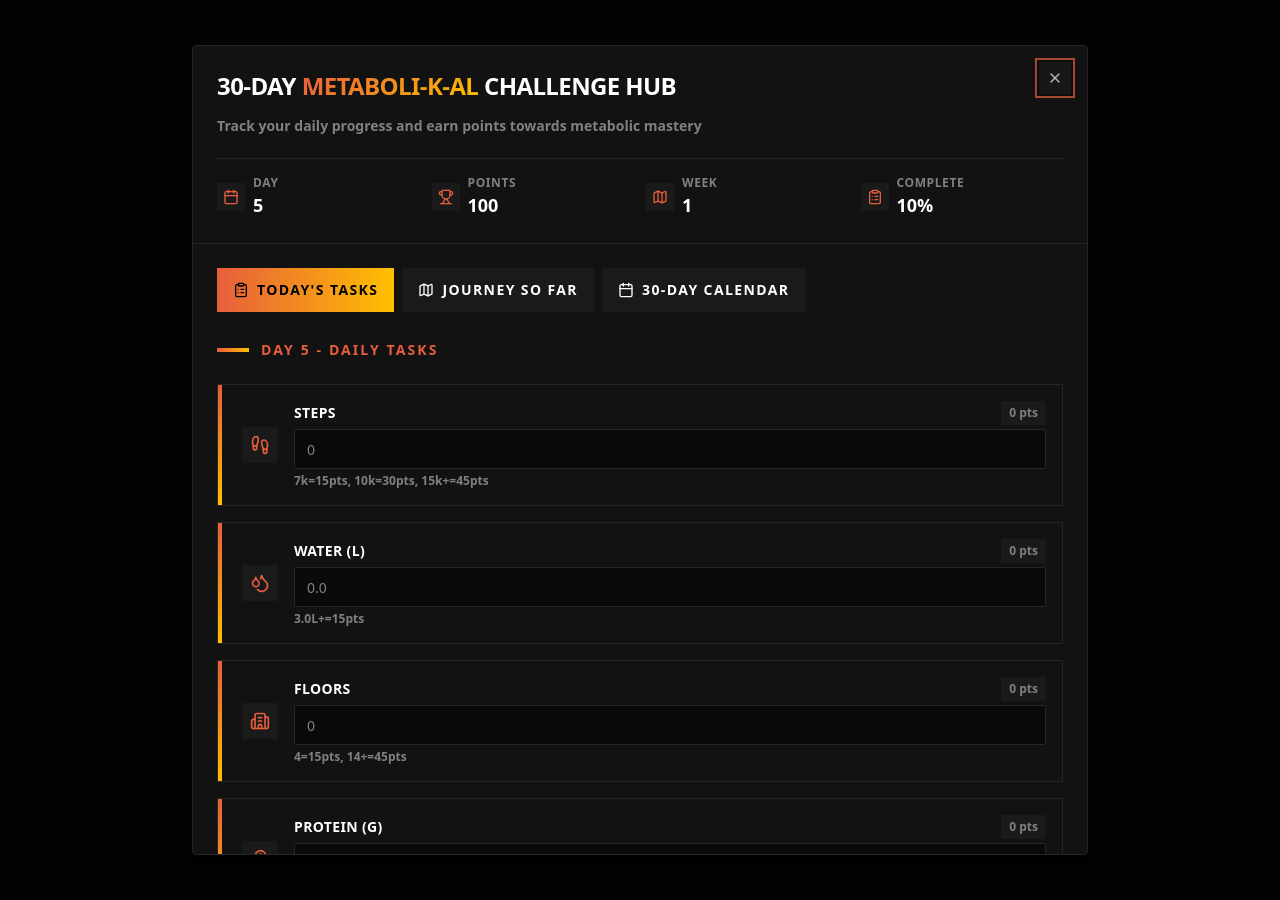
Test: ChallengeHubModal › save progress routing › uses saveDayProgress when editingDay is set
This screenshot has width=1280, height=900.
// Enter editing mode
Click the button "30-Day Calendar". click: (704, 290)
box: x1=602 y1=268 x2=806 y2=312
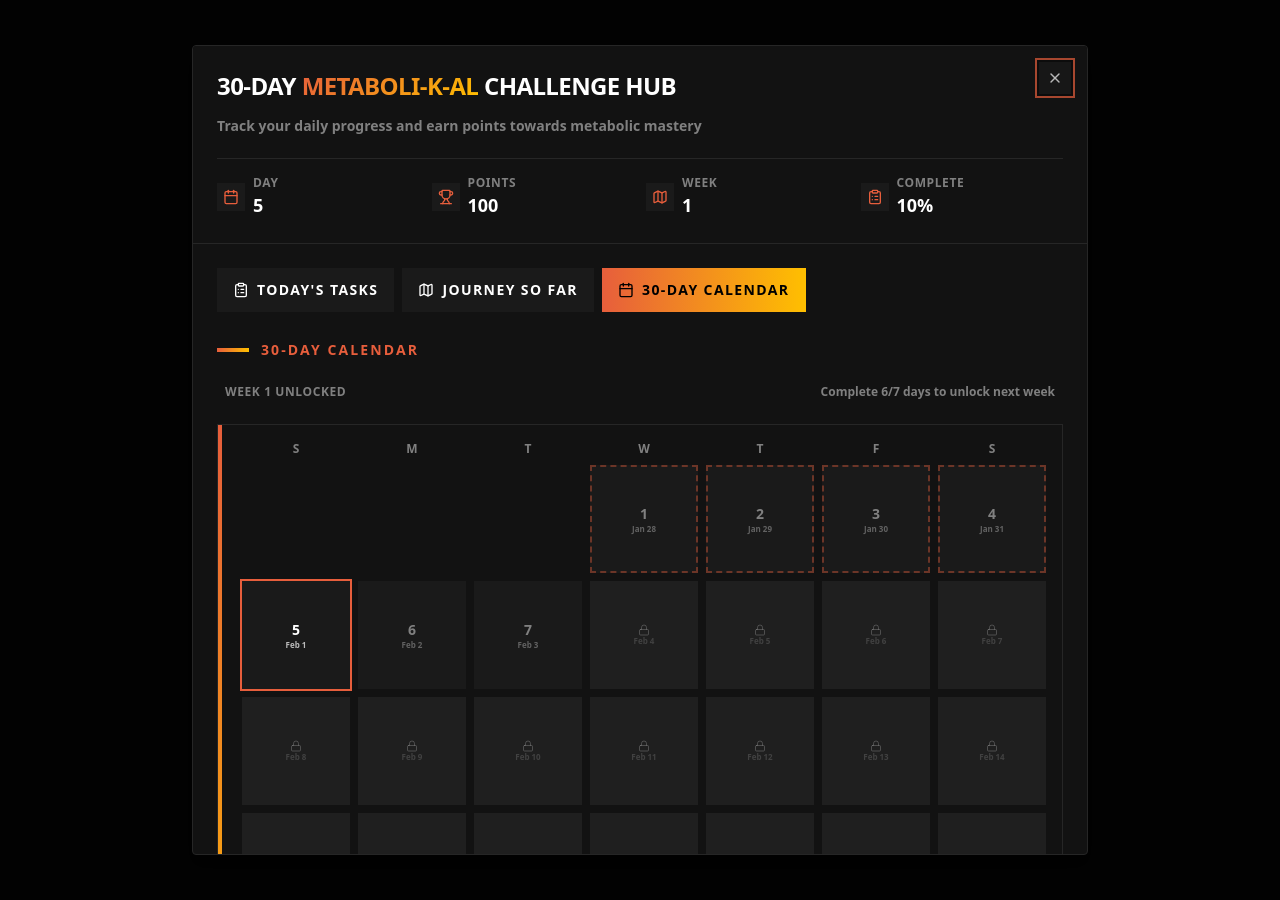
Click the button "2 Jan 29". click: (760, 519)
box: x1=706 y1=465 x2=814 y2=573
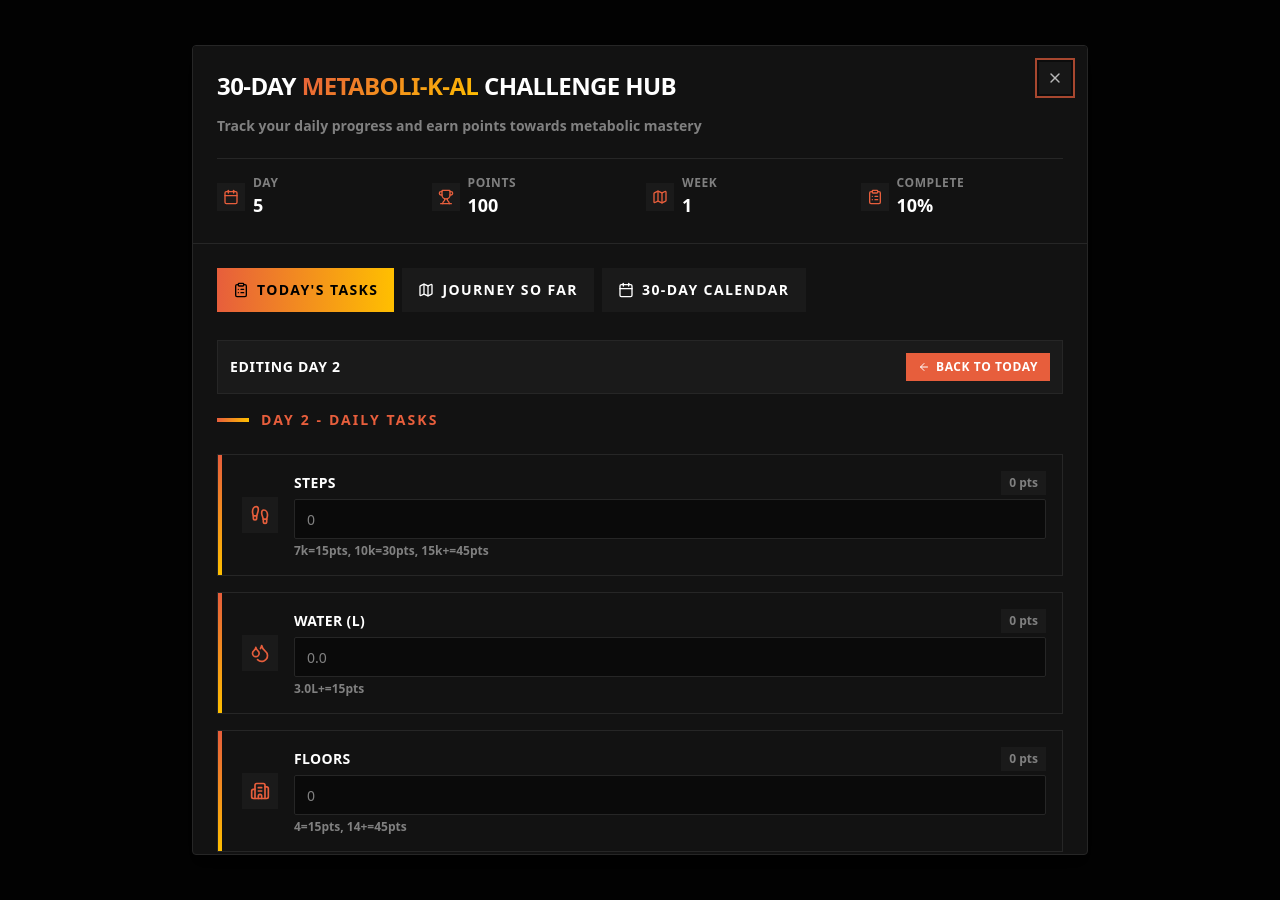
Expected: the text "Editing Day 2" is shown, x1=230 y1=357 x2=341 y2=377
